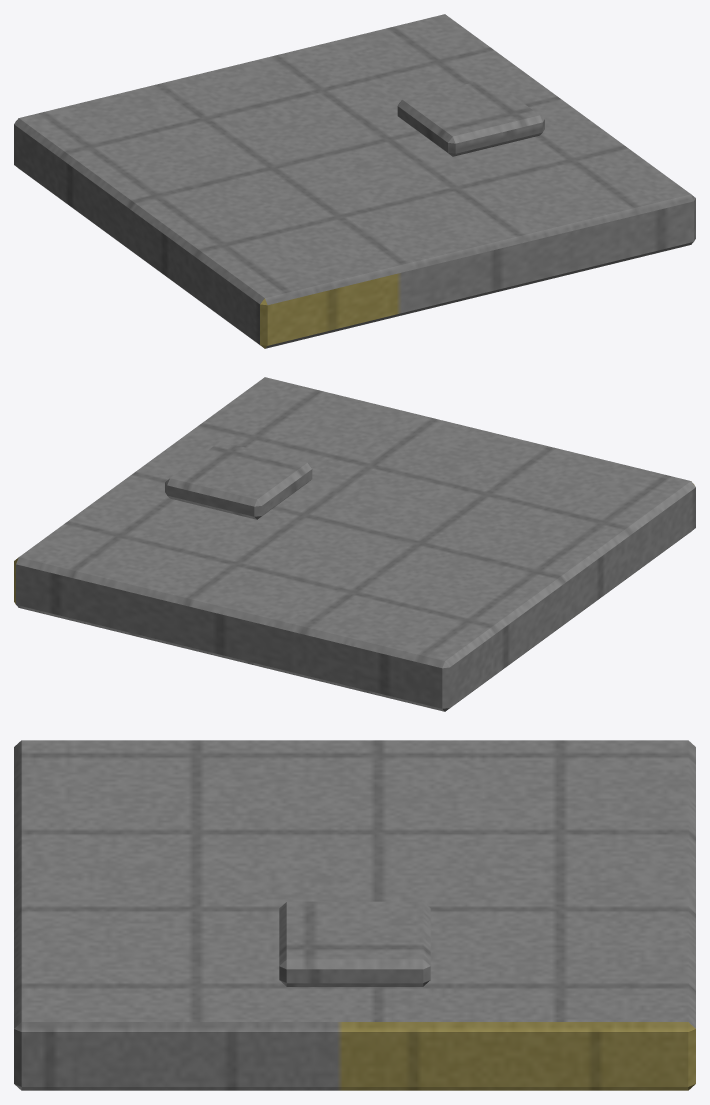
Rendered from conveyor.glb.
The picture shows the model from 3 angles, top to bottom: view 1: azimuth 30°, elevation 25°; view 2: azimuth 150°, elevation 25°; view 3: azimuth 270°, elevation 25°; orthographic projection. The views are drawn at different scales.
Visible parts, largest first — view 1: conveyor; view 2: conveyor; view 3: conveyor.
Boxes of the visible parts, x1,y1,x2,y2 form: conveyor: [14, 14, 695, 348]; conveyor: [14, 377, 695, 711]; conveyor: [14, 740, 695, 1090].
Size of the model in its own units: 0.9 by 0.14 by 0.9.
Materials: 1 (1 with a texture image).
